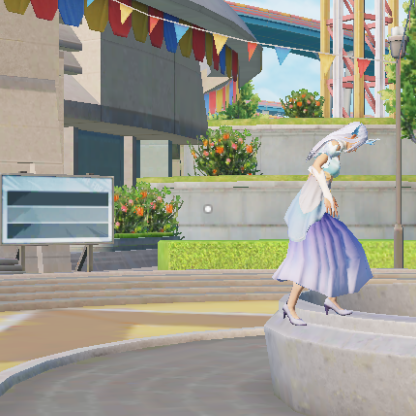ren: (280, 119, 359, 325)
tou: (332, 122, 370, 154)
